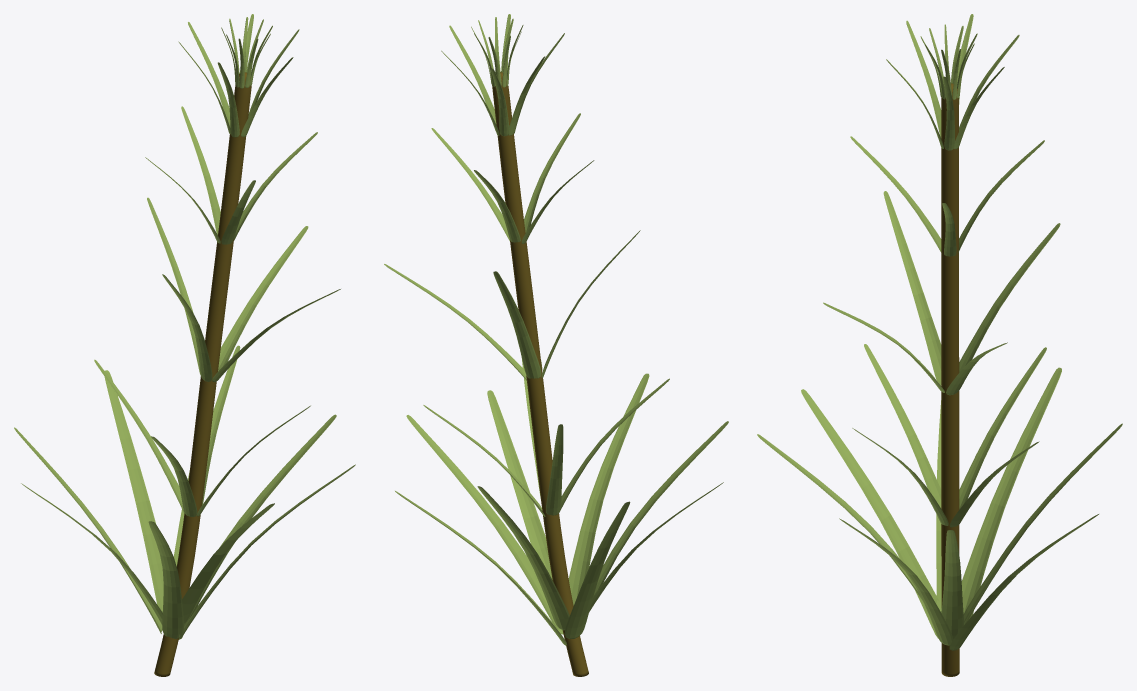
File: romero.fbx
The picture shows the model from 3 angles, left to right: view 1: azimuth 30°, elevation 25°; view 2: azimuth 150°, elevation 25°; view 3: azimuth 270°, elevation 25°; orthographic projection. The views are drawn at different scales.
Parts seen in each view (by area): view 1: hojas_romero; view 2: hojas_romero; view 3: hojas_romero.
Boxes of the visible parts, <box> form: hojas_romero: <box>14,14,355,676</box>; hojas_romero: <box>384,14,728,676</box>; hojas_romero: <box>757,14,1122,676</box>.
Bounding box in the file's own units: 106 × 201 × 97.69.
